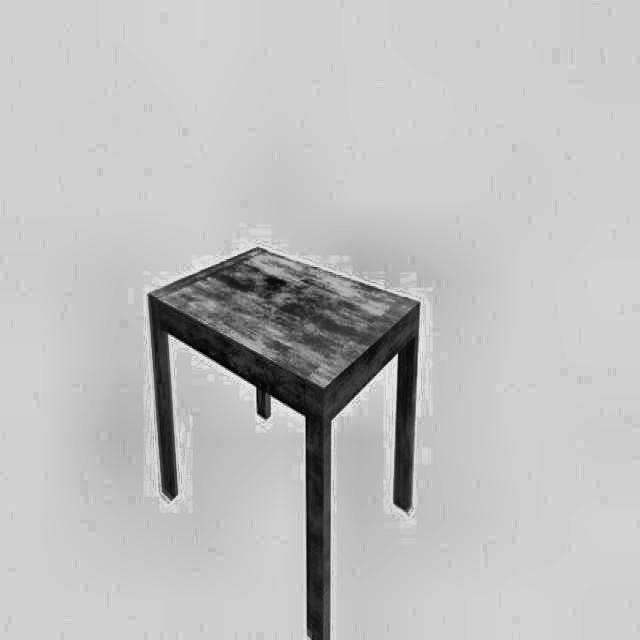mesa: (146, 245, 420, 640)
